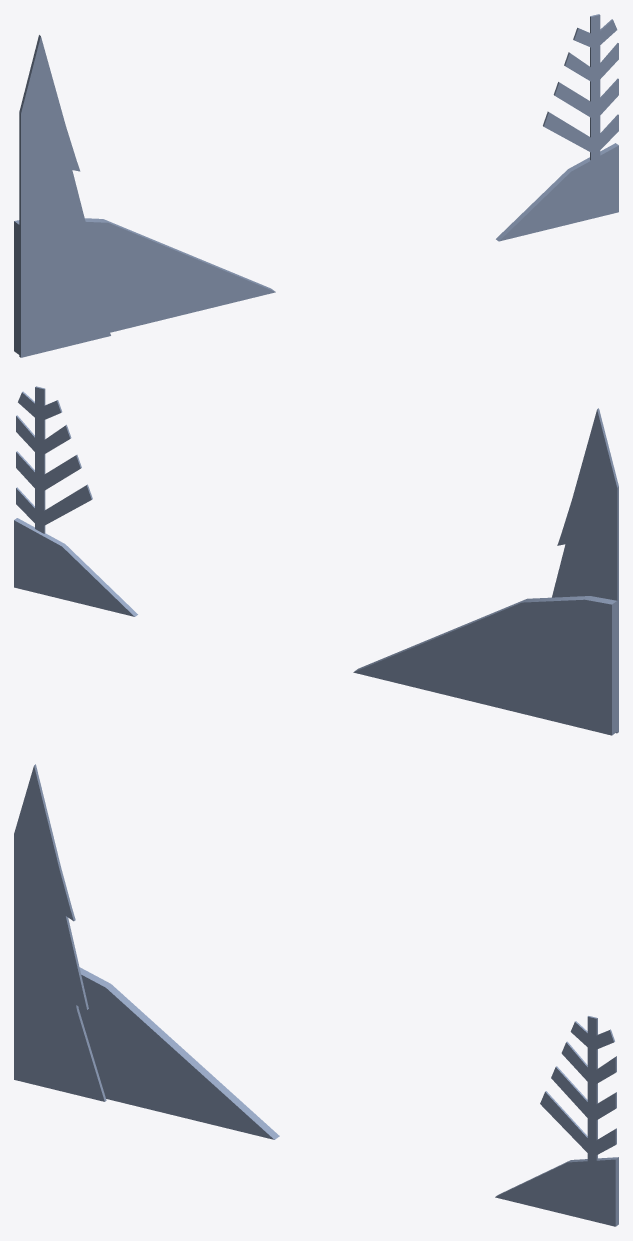
File: frame_0010.glb
3 views of the same model, one above another, from view 1: azimuth 30°, elevation 25°; view 2: azimuth 150°, elevation 25°; view 3: azimuth 330°, elevation 25° (orthographic).
Visible parts, largest first — view 1: export_trees_001.002; view 2: export_trees_001.002; view 3: export_trees_001.002.
Boxes of the visible parts, x1,y1,x2,y2 form: export_trees_001.002: [14, 14, 618, 357]; export_trees_001.002: [14, 386, 618, 735]; export_trees_001.002: [14, 764, 618, 1226].
Bounding box in the file's own units: 0.4327 × 0.2193 × 0.00909.
